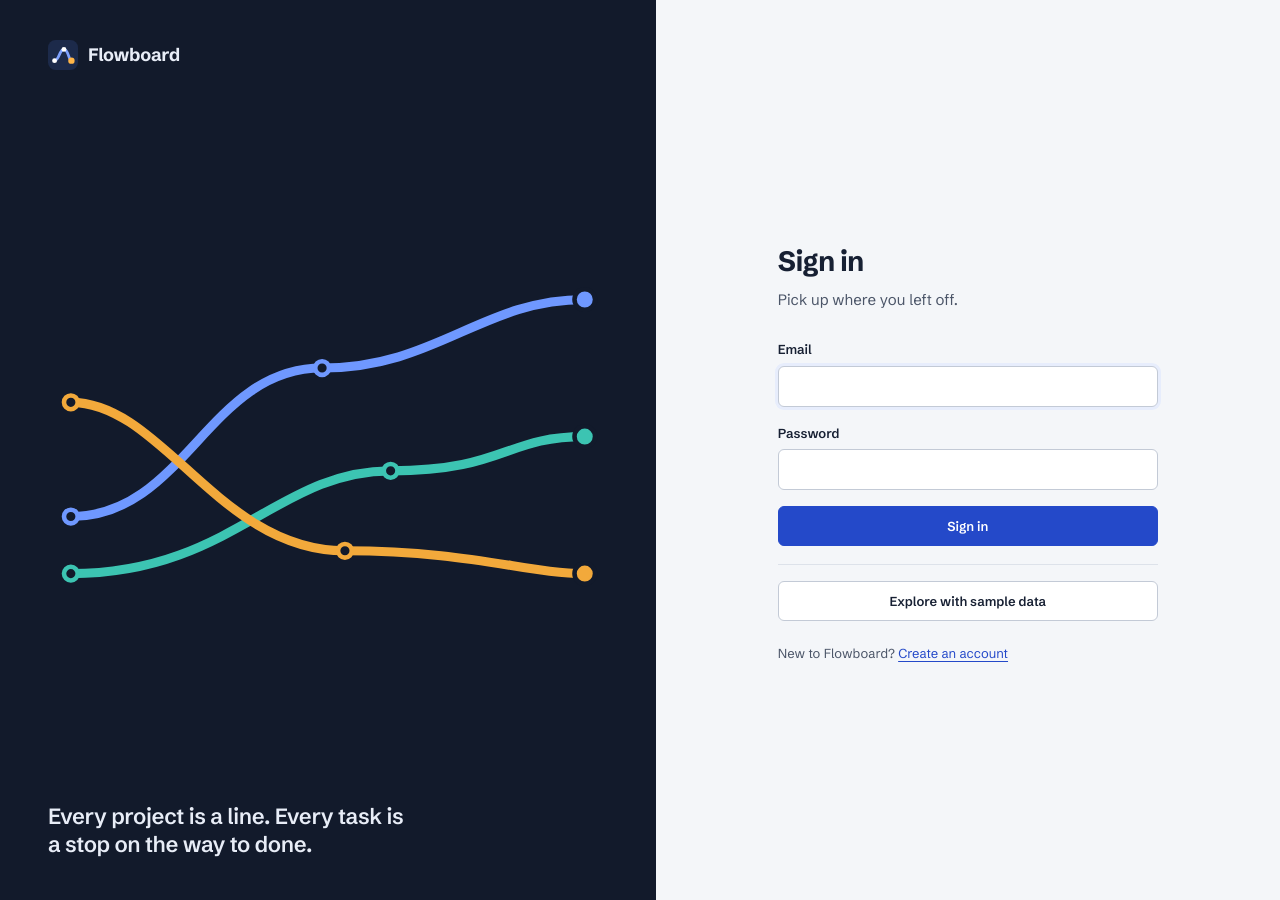
it: authentication › reports wrong credentials without revealing which part was wrong
Type "nobody@example.com" into the field labelled "Email" at (968, 386), box [778,366,1158,407]
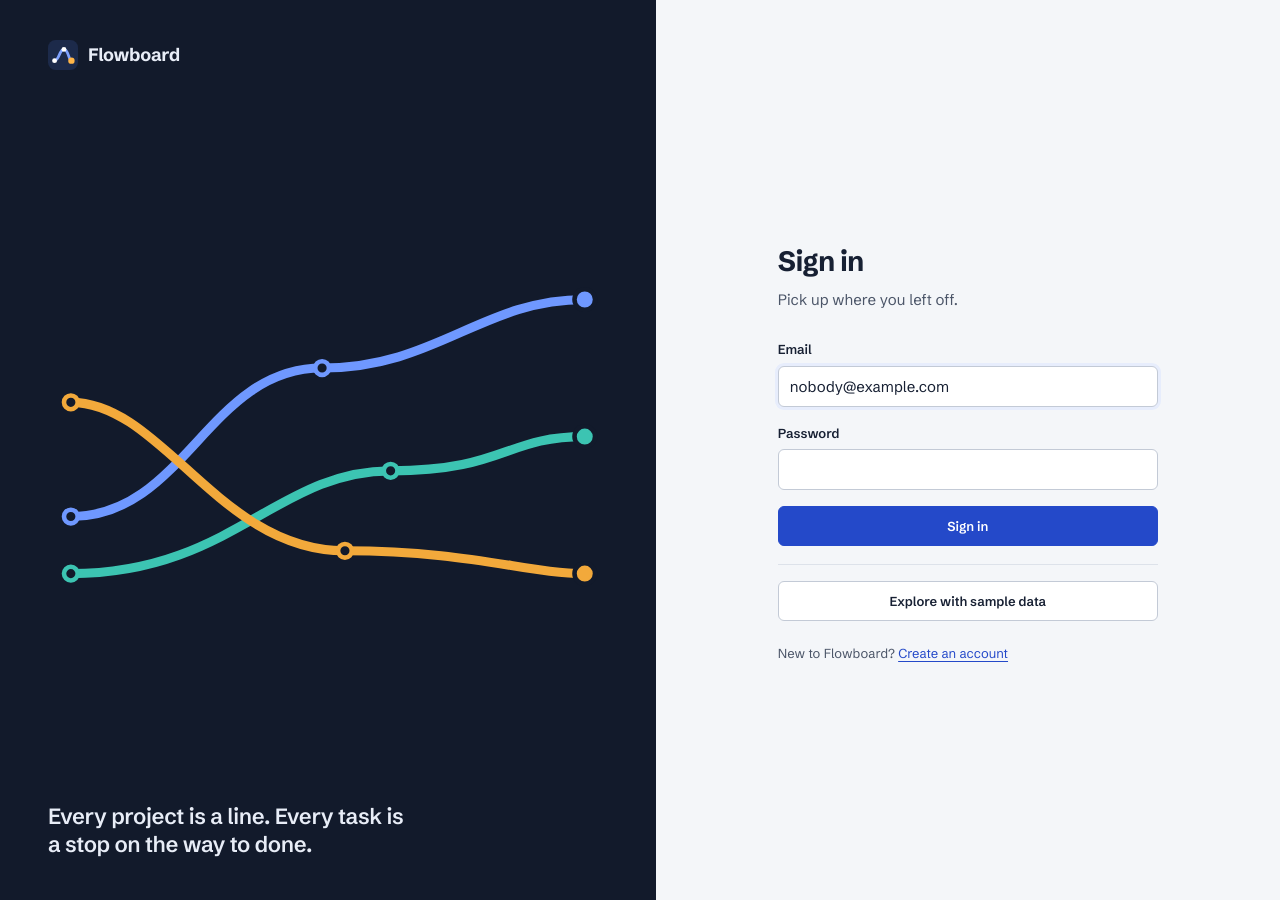
Type "password123" into the password field labelled "Password" at (968, 470), box [778,449,1158,490]
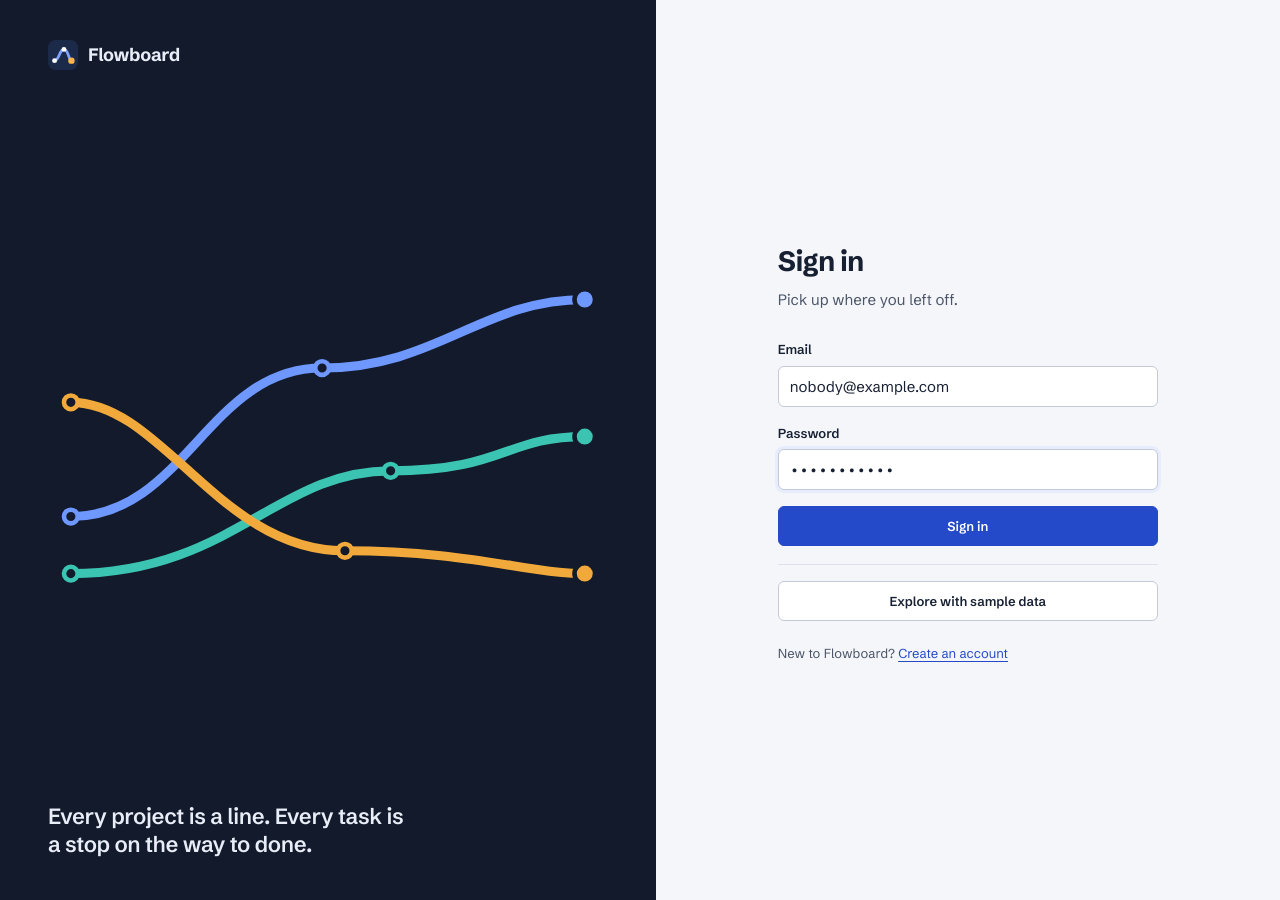
Click the button "Sign in" at (968, 526), box [778,506,1158,546]
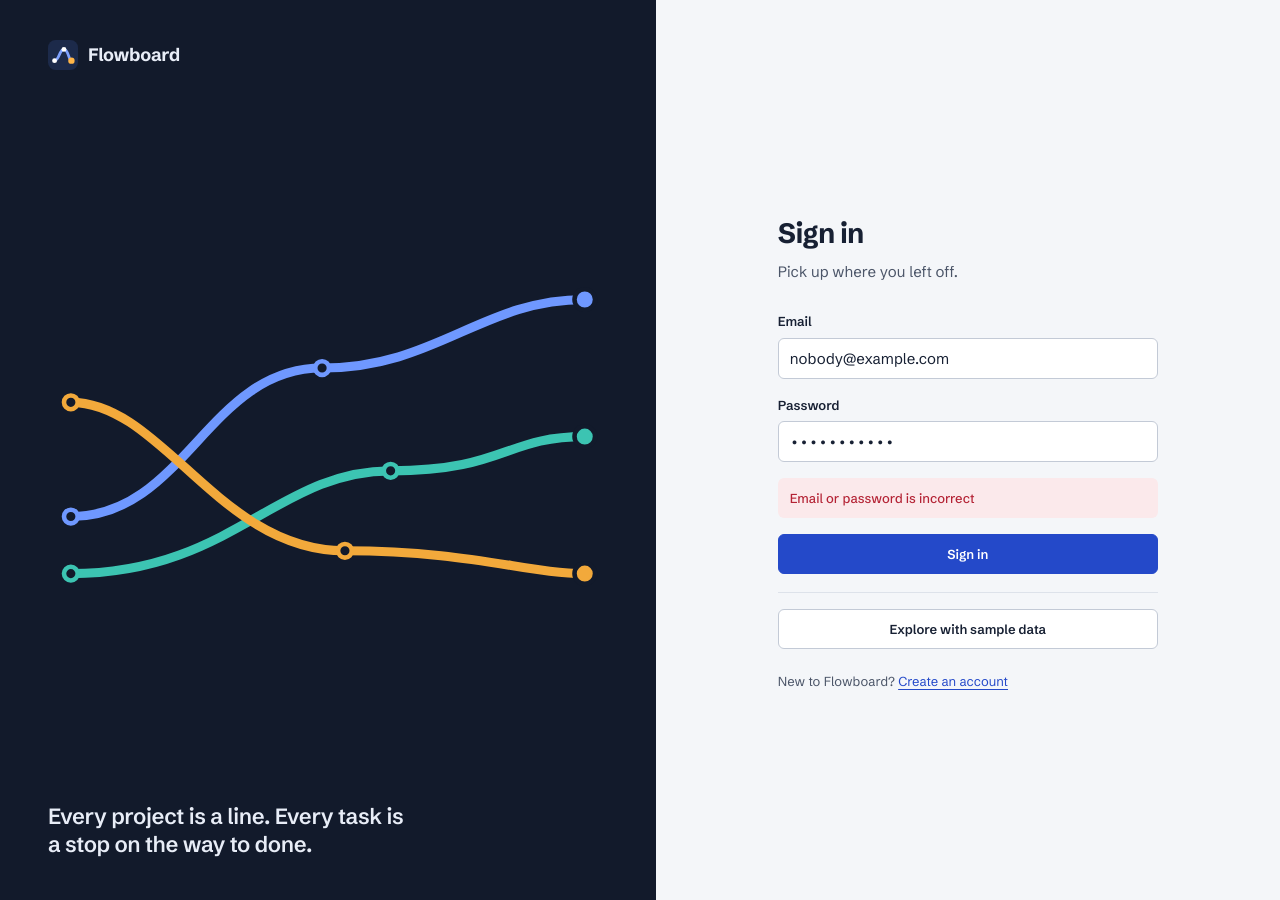
Result: the message reads "Email or password is incorrect" at [790,490,975,506]
